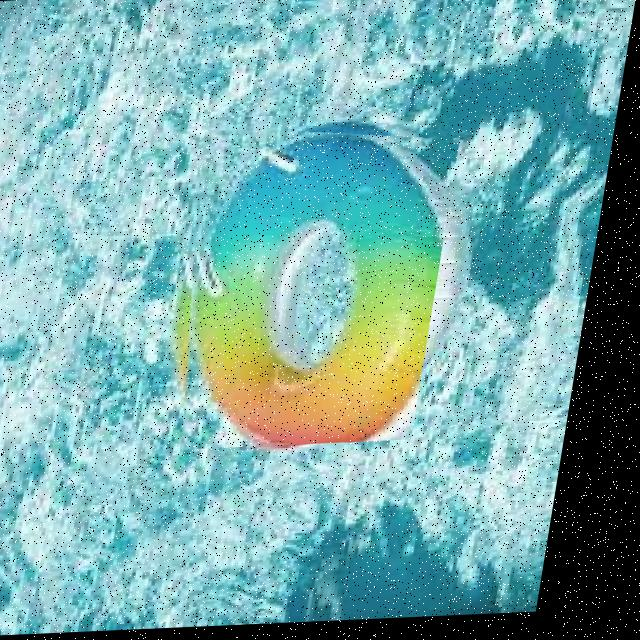litter: (201, 133, 451, 448)
